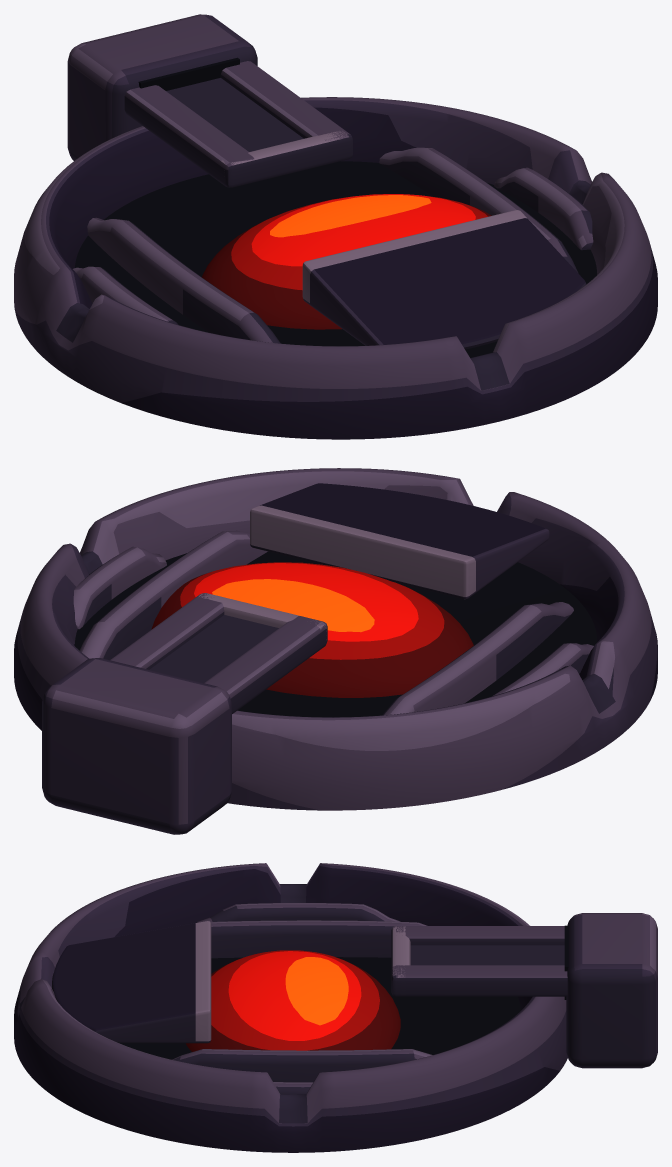
Rendered from eye_hatch_162.glb.
3 views of the same model, one above another, from view 1: azimuth 30°, elevation 25°; view 2: azimuth 150°, elevation 25°; view 3: azimuth 270°, elevation 25° (orthographic). The views are drawn at different scales.
Parts seen in each view (by area): view 1: eye_hatch_162; view 2: eye_hatch_162; view 3: eye_hatch_162.
Boxes of the visible parts, x1,y1,x2,y2 form: eye_hatch_162: (14, 14, 657, 439); eye_hatch_162: (14, 468, 657, 834); eye_hatch_162: (14, 863, 657, 1152).
Bounding box in the file's own units: 17.4 × 3.6 × 20.4.
